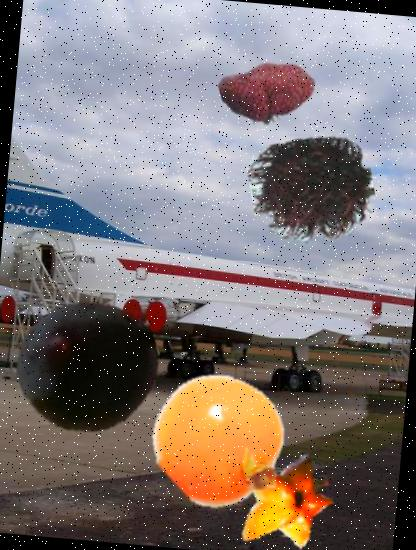Carambula: (226, 444, 341, 550)
Physalis: (144, 365, 300, 520)
Plum: (11, 289, 166, 444)
Rambutan: (247, 126, 378, 258)
Strawberry: (218, 42, 321, 146)
